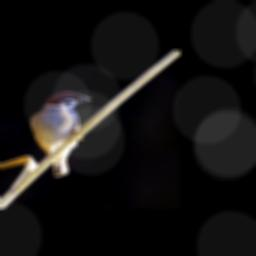Sparrow: (28, 90, 92, 177)
